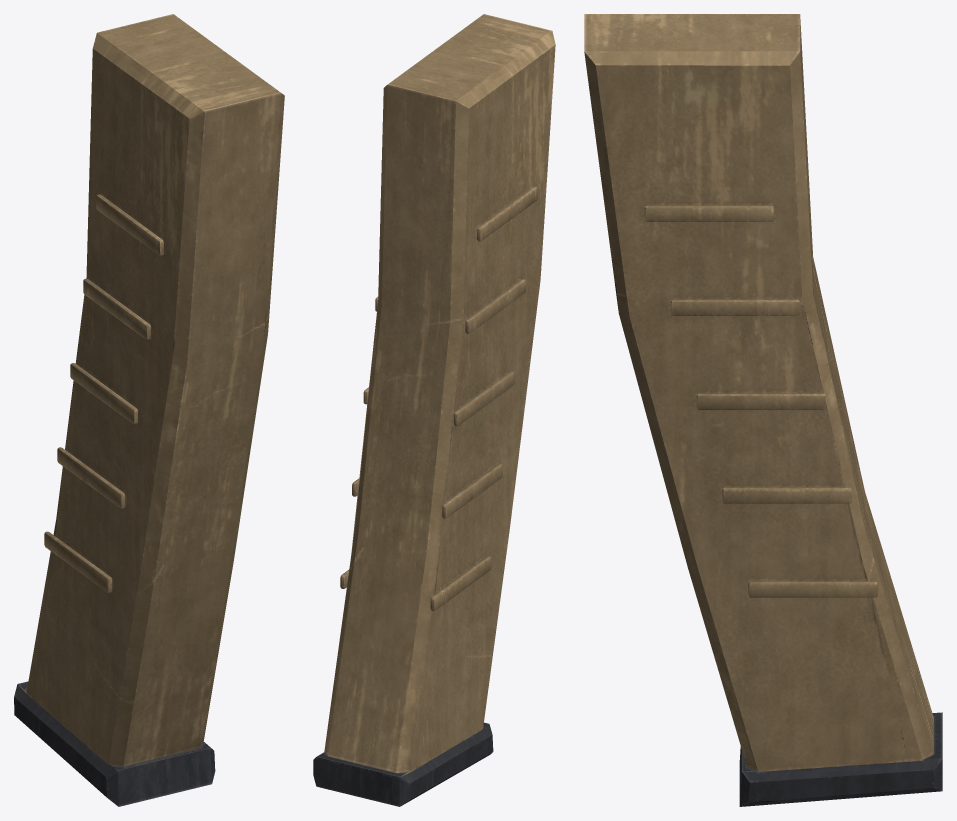
The model's file is pc7_cell.glb.
3 renders of one model, left to right at view 1: azimuth 30°, elevation 25°; view 2: azimuth 150°, elevation 25°; view 3: azimuth 270°, elevation 25°, orthographic. The views are drawn at different scales.
Parts seen in each view (by area): view 1: Magazine; view 2: Magazine; view 3: Magazine.
Part boxes in pixels (bbox=[...]): Magazine: bbox=[14, 14, 284, 806]; Magazine: bbox=[313, 14, 555, 806]; Magazine: bbox=[584, 14, 942, 806].
Bounding box in the file's own units: 0.029 × 0.192 × 0.083.
1 material, 1 textured.
